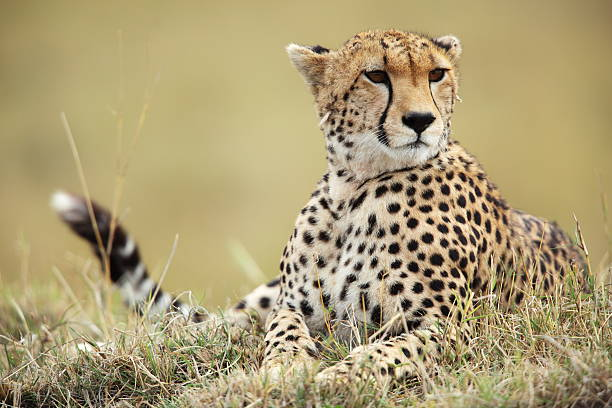cheetah: (264, 15, 496, 186)
